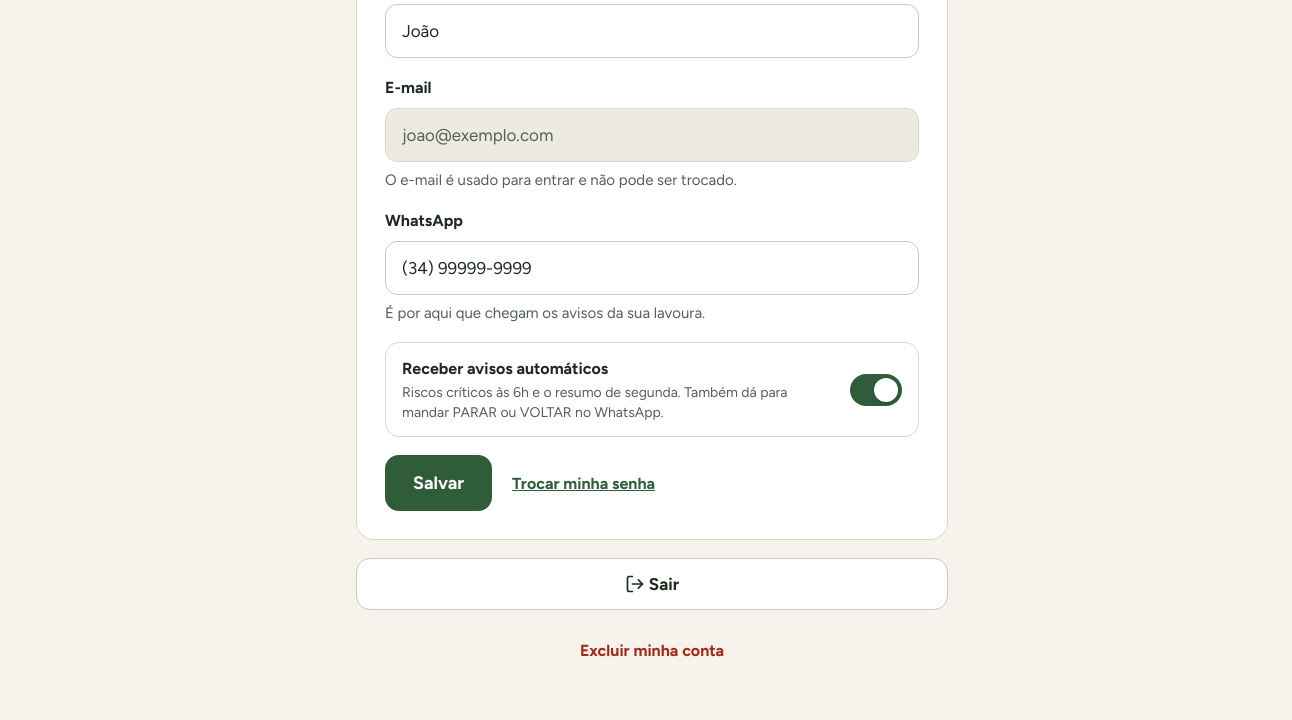
Test: Minha conta › "Sair" apaga o token e volta para o login
(page scrolled)
Expected: the field labelled "Nome" is shown, top-left (385, 4), bottom-right (919, 58)
Click the button "Sair" at (652, 584), box top-left (356, 558), bottom-right (948, 610)
(page scrolled)
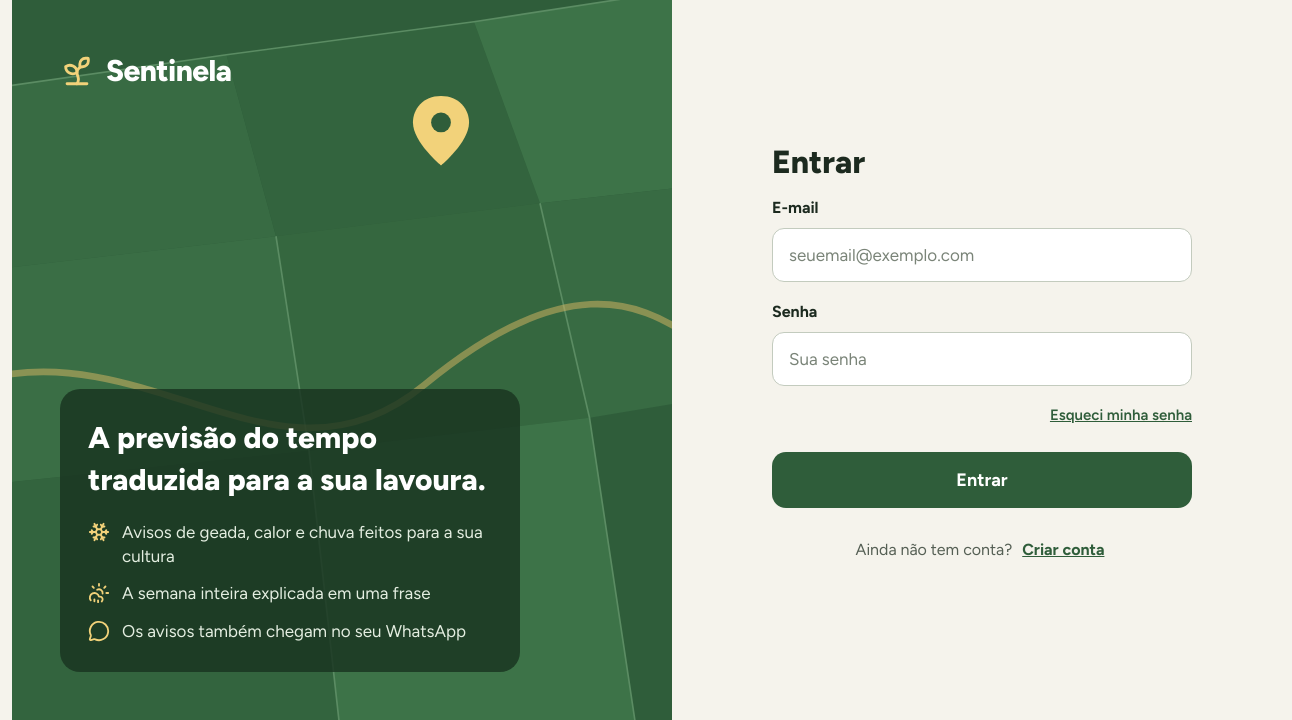
Result: the heading "Entrar" is shown at top-left (772, 143), bottom-right (865, 181)
